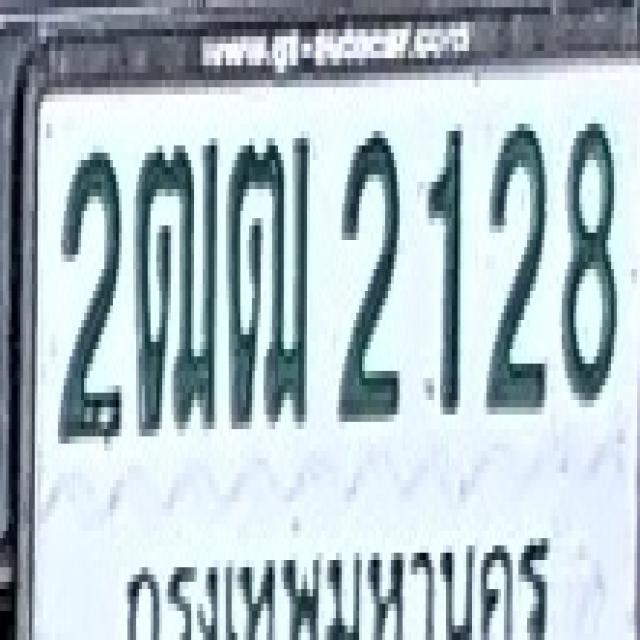1: (424, 123, 462, 414)
2: (336, 124, 400, 422), (58, 146, 122, 444), (484, 120, 547, 411)
8: (559, 116, 617, 400)
A18: (226, 131, 310, 429), (133, 134, 217, 432)
BKK: (125, 512, 556, 640)
